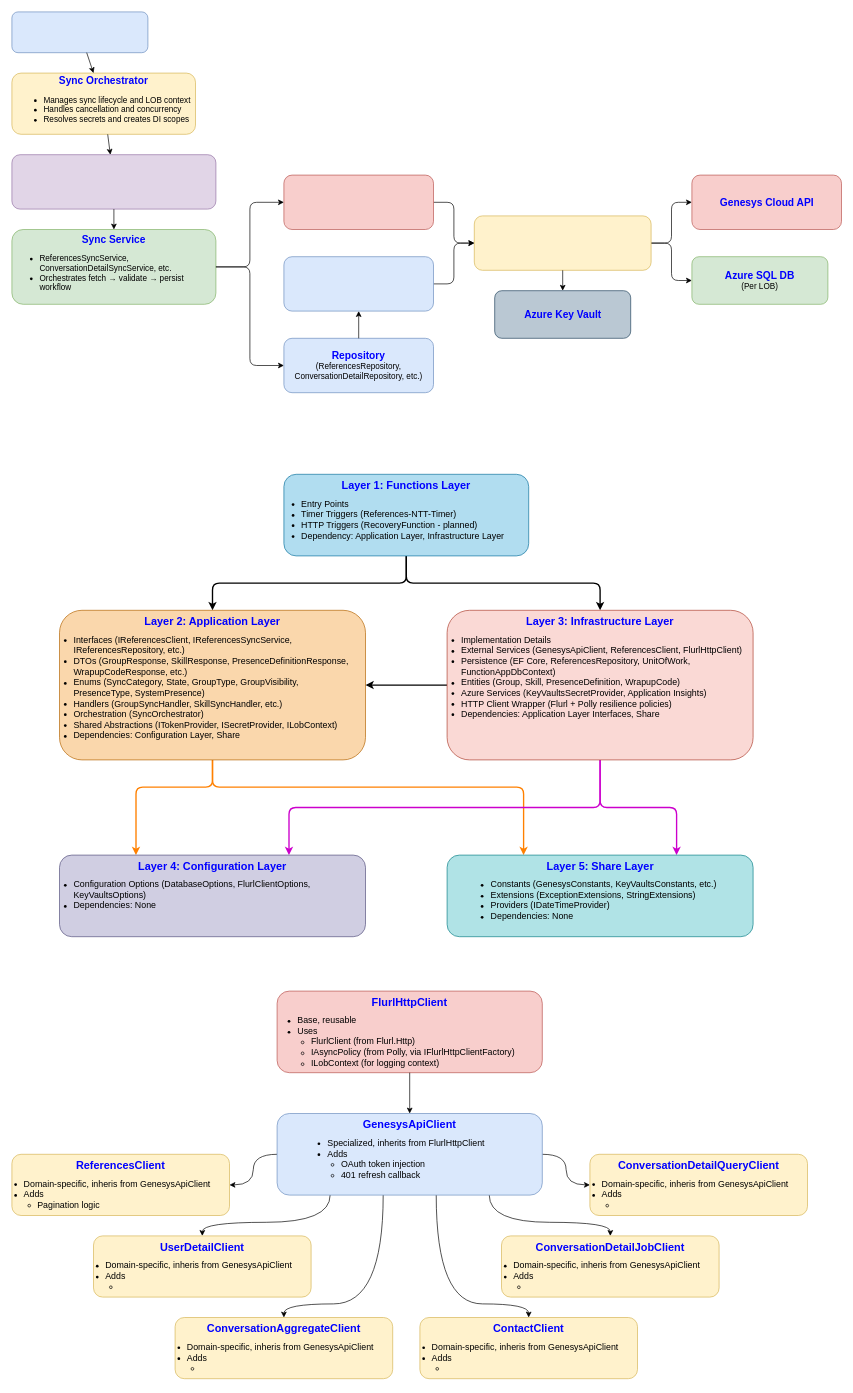
Some shapes in this 853 by 1393 pixel diagram are drawn without their labels. The centre of each missing label's shape, as x and y in pixels:
"Azure Timer Functions (Per LOB Per Category)" goes at point 79,32.
"Category Sync Handlers (GroupSyncHandler, SkillSyncHandler, etc.)" goes at point 113,181.
"HttpClient (ReferencesClient, ConversationDetailClient, etc.)" goes at point 358,202.
"Token Provider (Memory → Key Vault → OAuth)" goes at point 562,242.
"UnitOfWork (EF Core DbContext)" goes at point 358,283.
